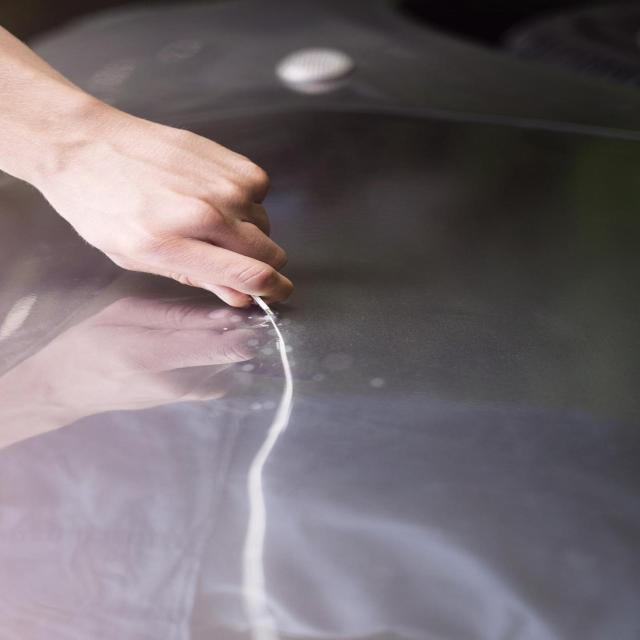scratch: (228, 313, 300, 640)
